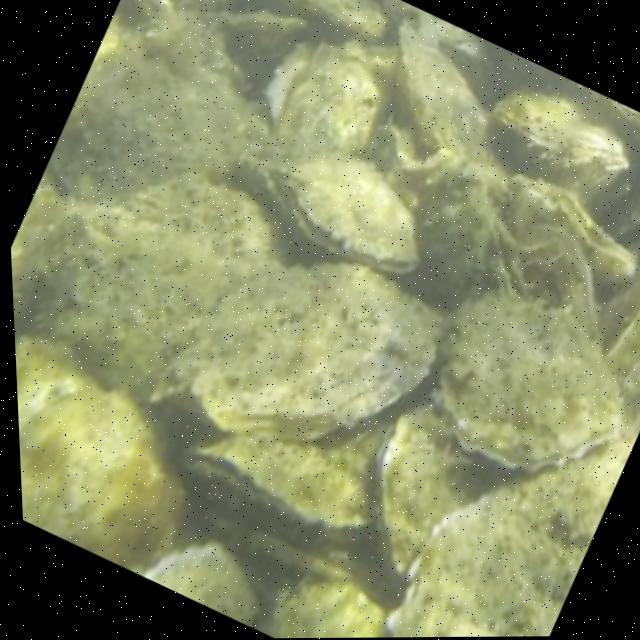Oyster-Closed: (385, 437, 636, 637), (432, 290, 623, 478), (181, 406, 398, 531), (370, 400, 509, 580), (250, 145, 422, 271), (511, 174, 638, 286), (135, 543, 260, 629), (475, 224, 533, 301)
Oyster-Indeterminate: (34, 184, 292, 402), (173, 262, 429, 439), (56, 21, 255, 196), (19, 385, 183, 565), (400, 20, 510, 184), (498, 91, 630, 193), (271, 42, 381, 152), (260, 583, 384, 638), (274, 0, 381, 27)
